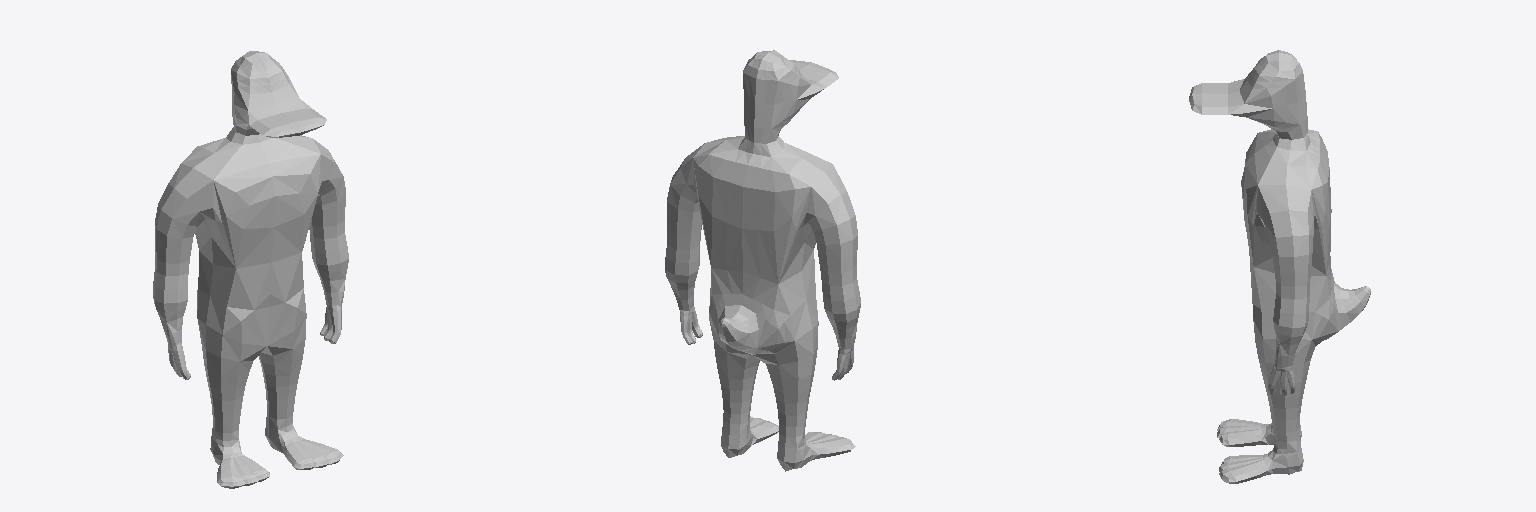
Rendered from canard_qui_salue_000024.obj.
3 renders of one model, left to right at view 1: azimuth 30°, elevation 25°; view 2: azimuth 150°, elevation 25°; view 3: azimuth 270°, elevation 25°, orthographic.
Parts seen in each view (by area): view 1: Cube; view 2: Cube; view 3: Cube.
Boxes of the visible parts, x1,y1,x2,y2 form: Cube: [153, 51, 348, 488]; Cube: [665, 50, 860, 471]; Cube: [1189, 50, 1370, 483].
Bounding box in the file's own units: 1.38 × 2.8 × 1.14.